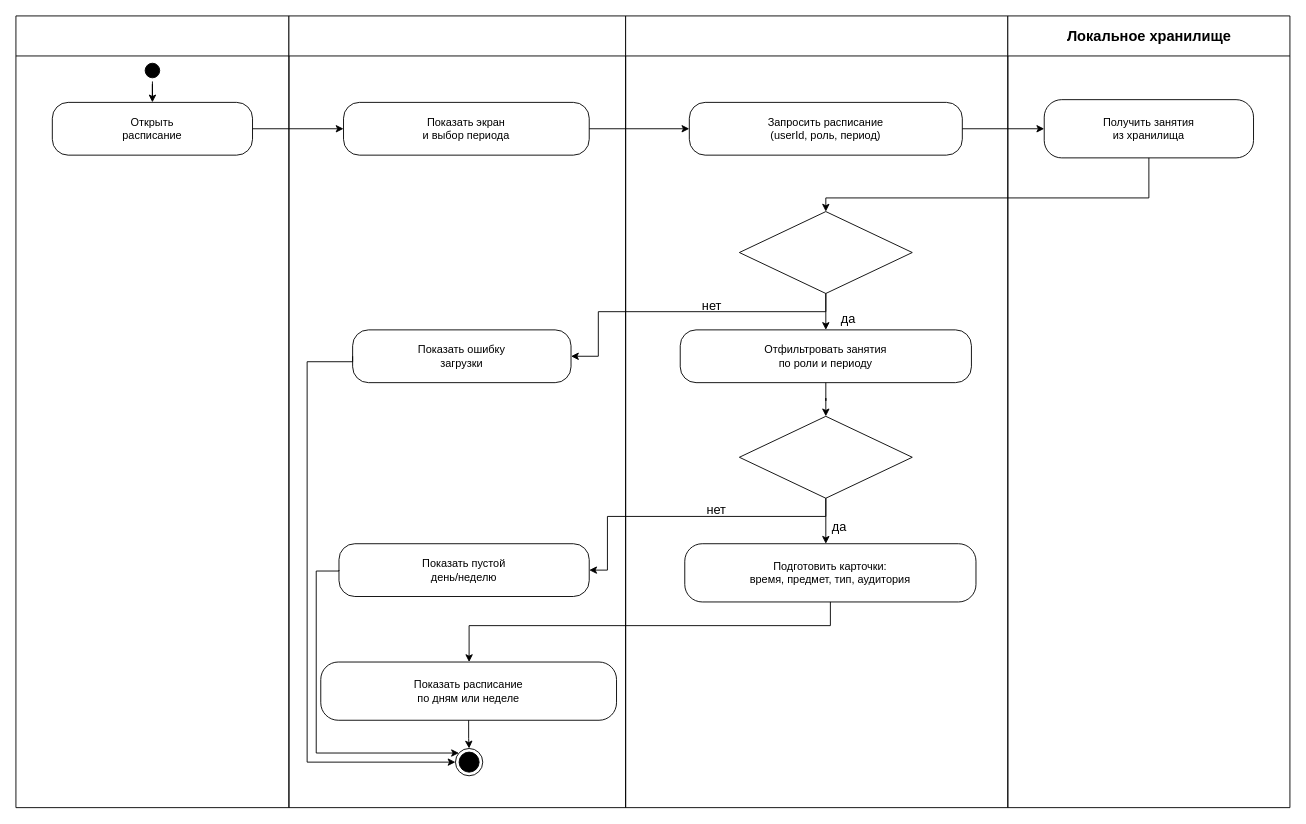
The diagram is 1306 pixels wide and 824 high, and some of its shapes have lost their labels. The shapes that lost their labels are listed below. From the top down, each one's box as (x1, y1, x2, y2) in pixels, then its label:
(738, 211, 912, 293): Данные получены?
(15, 15, 289, 808): Пользователь
(288, 15, 626, 808): Интерфейс системы
(625, 15, 1008, 808): Модуль расписания
(738, 415, 912, 498): Есть занятия?
